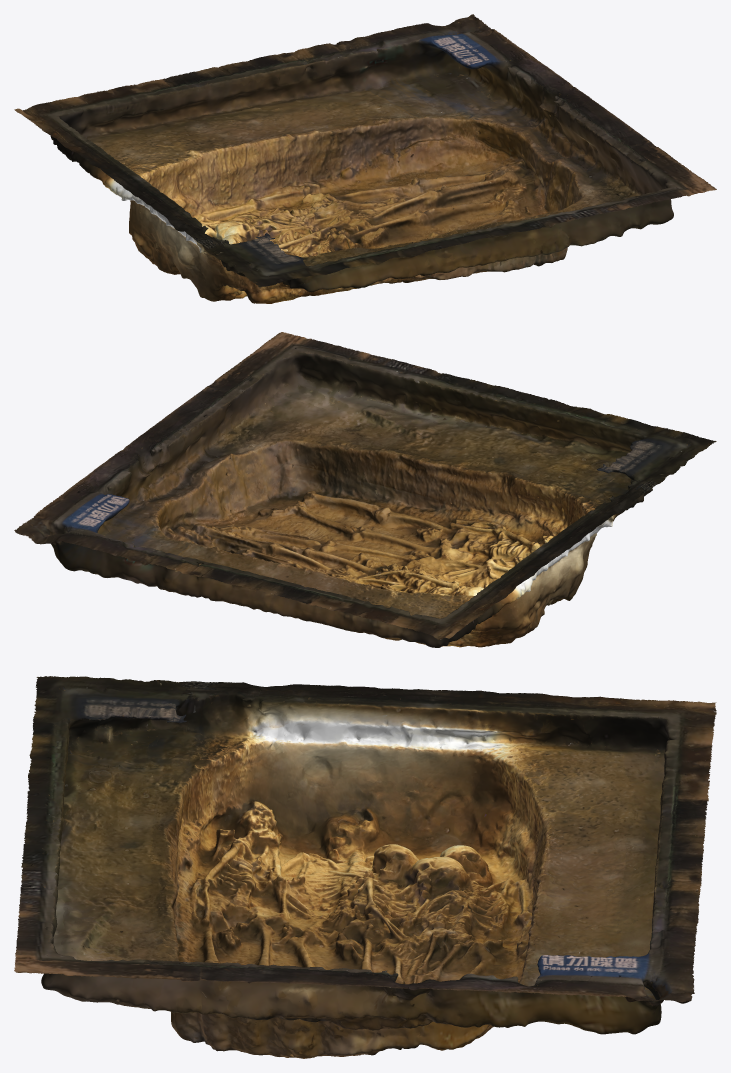
Rendered from sketchfabTemp.obj.fbx.
3 views of the same model, one above another, from view 1: azimuth 30°, elevation 25°; view 2: azimuth 150°, elevation 25°; view 3: azimuth 270°, elevation 25° (orthographic). The views are drawn at different scales.
Visible parts, largest first — view 1: Stereo textured mesh; view 2: Stereo textured mesh; view 3: Stereo textured mesh.
Part boxes in pixels (x1,y1,x2,y2): Stereo textured mesh: [14, 14, 716, 303]; Stereo textured mesh: [14, 332, 716, 647]; Stereo textured mesh: [14, 676, 716, 1058].
Bounding box in the file's own units: 999 × 218 × 1000.
2 materials, 2 textured.
